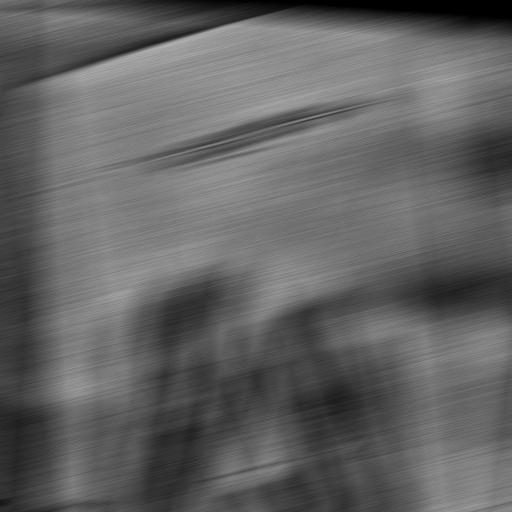bottom_right: (473, 503, 502, 509)
envelop: (100, 96, 434, 492)
top_left: (27, 84, 52, 86)
